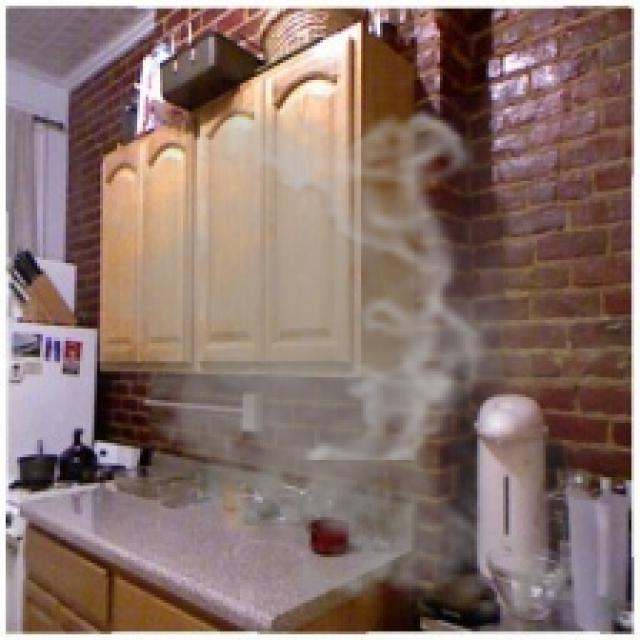Smoke: (83, 97, 632, 637)
